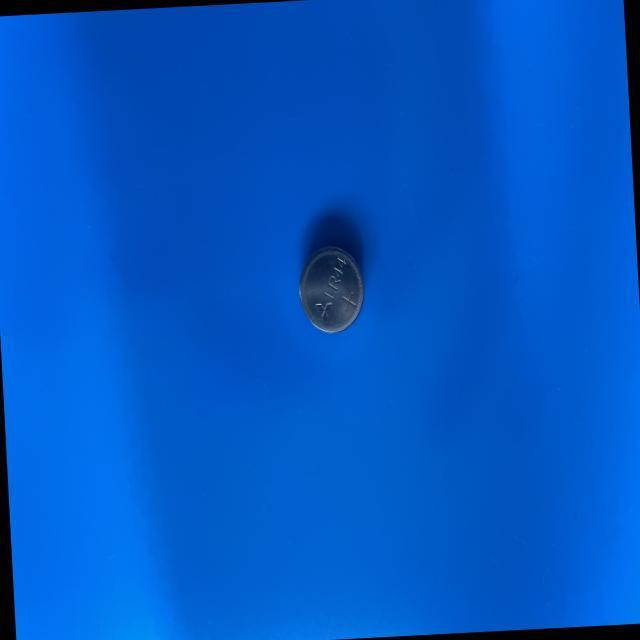COIN: (296, 242, 368, 336)
